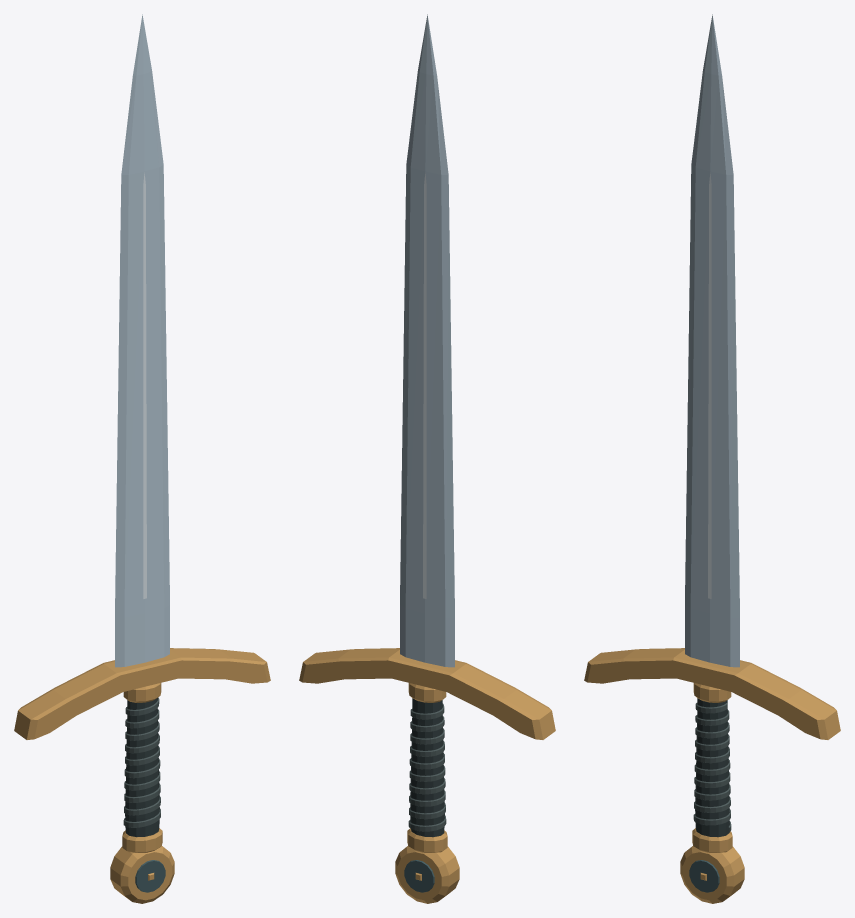
File: simple_sword.glb
The picture shows the model from 3 angles, left to right: view 1: azimuth 30°, elevation 25°; view 2: azimuth 150°, elevation 25°; view 3: azimuth 330°, elevation 25°; orthographic projection.
Visible parts, largest first — view 1: Tapered steel blade, Swept brass crossguard, Leather grip, Spiral leather wrap, Faceted wheel pommel, Blade center accent -1, Pommel inset -1, Lower grip ferrule, Upper grip ferrule; view 2: Tapered steel blade, Swept brass crossguard, Leather grip, Spiral leather wrap, Faceted wheel pommel, Blade center accent 1, Pommel inset 1, Lower grip ferrule, Upper grip ferrule; view 3: Tapered steel blade, Swept brass crossguard, Leather grip, Spiral leather wrap, Faceted wheel pommel, Blade center accent -1, Pommel inset -1, Lower grip ferrule, Upper grip ferrule.
Boxes of the visible parts, <box> form: Tapered steel blade: <box>115,14,169,667</box>; Swept brass crossguard: <box>14,648,270,739</box>; Leather grip: <box>125,698,159,837</box>; Spiral leather wrap: <box>123,697,160,827</box>; Faceted wheel pommel: <box>110,846,174,903</box>; Blade center accent -1: <box>143,172,146,598</box>; Pommel inset -1: <box>135,860,165,892</box>; Lower grip ferrule: <box>122,828,162,852</box>; Upper grip ferrule: <box>123,683,161,702</box>; Tapered steel blade: <box>400,14,454,667</box>; Swept brass crossguard: <box>299,648,555,739</box>; Leather grip: <box>410,698,444,837</box>; Spiral leather wrap: <box>408,703,446,831</box>; Faceted wheel pommel: <box>395,846,459,903</box>; Blade center accent 1: <box>423,172,426,598</box>; Pommel inset 1: <box>404,860,434,892</box>; Lower grip ferrule: <box>407,828,447,852</box>; Upper grip ferrule: <box>408,683,446,702</box>; Tapered steel blade: <box>685,14,739,667</box>; Swept brass crossguard: <box>584,648,840,739</box>; Leather grip: <box>695,698,729,837</box>; Spiral leather wrap: <box>693,703,731,832</box>; Faceted wheel pommel: <box>680,846,744,903</box>; Blade center accent -1: <box>708,172,711,598</box>; Pommel inset -1: <box>689,860,719,892</box>; Lower grip ferrule: <box>692,828,732,852</box>; Upper grip ferrule: <box>693,683,731,702</box>.
Bounding box in the file's own units: 0.38 × 1.32 × 0.05.
